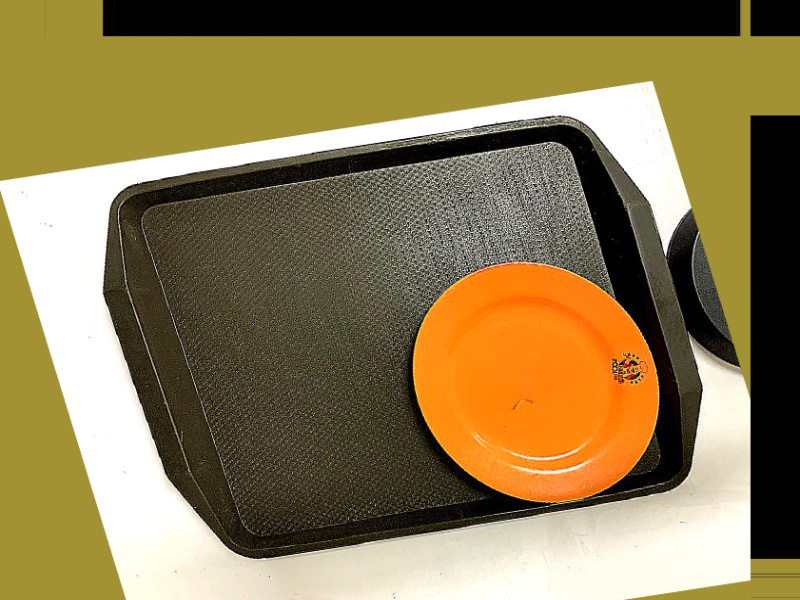dish10: (375, 243, 698, 523)
